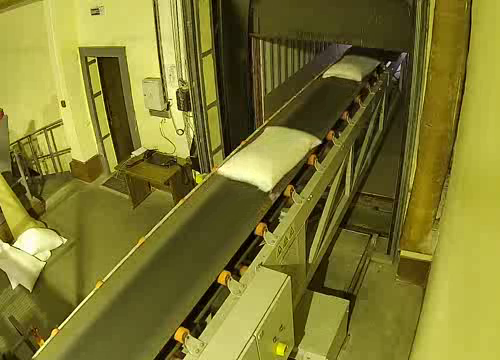bag: (210, 120, 322, 204), (321, 50, 384, 89)
